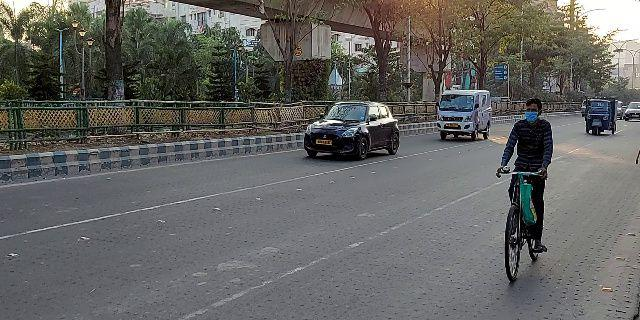Autorickshaw: (581, 94, 618, 137)
Car: (300, 97, 402, 160)
Cycle: (496, 96, 556, 284)
Minitruck: (436, 88, 495, 143)
